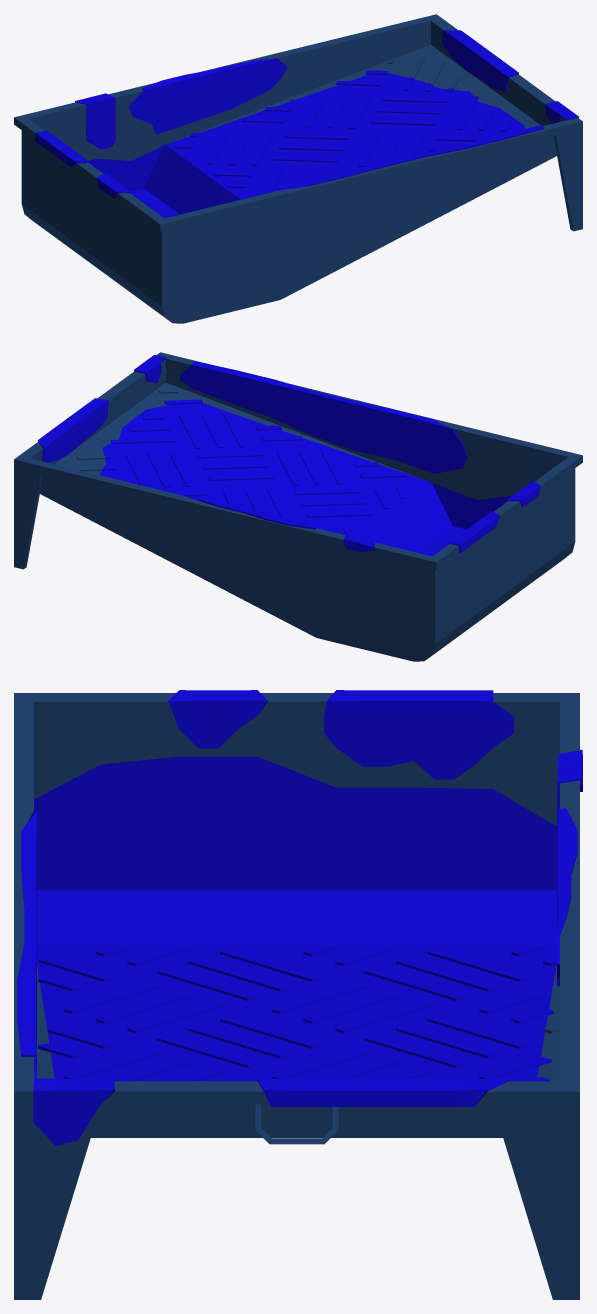
Rendered from SM_Roller_Bucket_Empty.gltf.
3 views of the same model, one above another, from view 1: azimuth 30°, elevation 25°; view 2: azimuth 150°, elevation 25°; view 3: azimuth 270°, elevation 25° (orthographic). The views are drawn at different scales.
Visible parts, largest first — view 1: SM_Roller_Bucket_Empty; view 2: SM_Roller_Bucket_Empty; view 3: SM_Roller_Bucket_Empty.
Part boxes in pixels (bbox=[...]): SM_Roller_Bucket_Empty: bbox=[14, 14, 582, 323]; SM_Roller_Bucket_Empty: bbox=[14, 352, 582, 661]; SM_Roller_Bucket_Empty: bbox=[14, 690, 582, 1299].
Bounding box in the file's own units: 0.7445 × 0.1798 × 0.4396.
